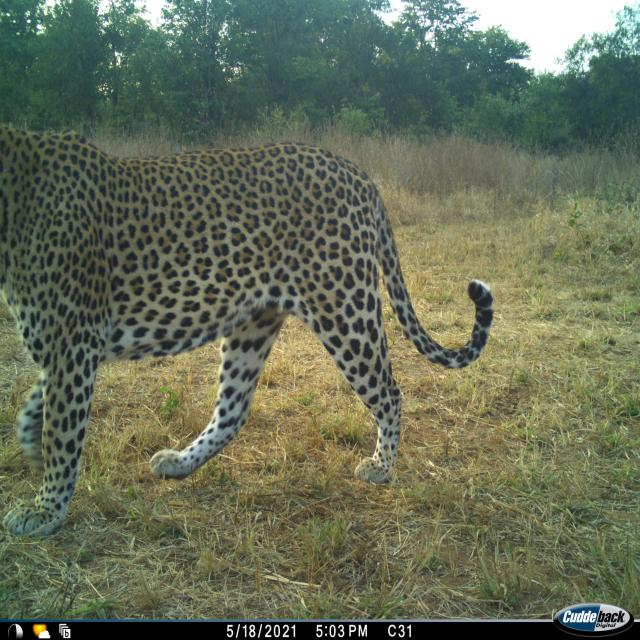Leopard: (0, 121, 491, 517)
